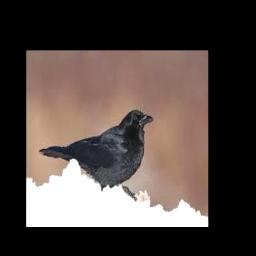Crow: (39, 110, 154, 204)
